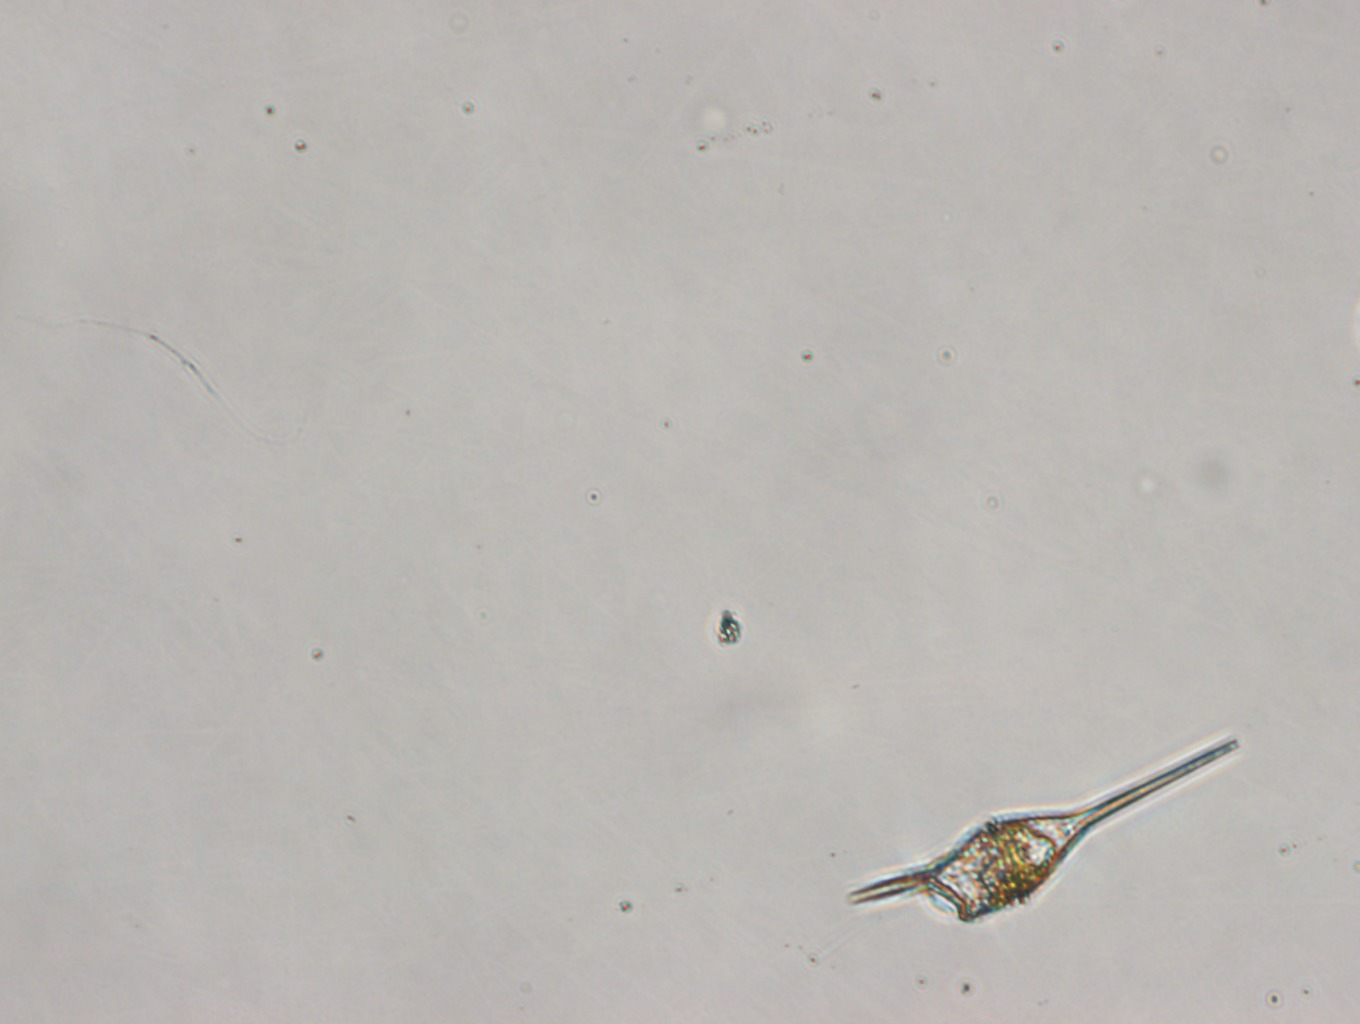ceratium furca: (848, 741, 1240, 924)
